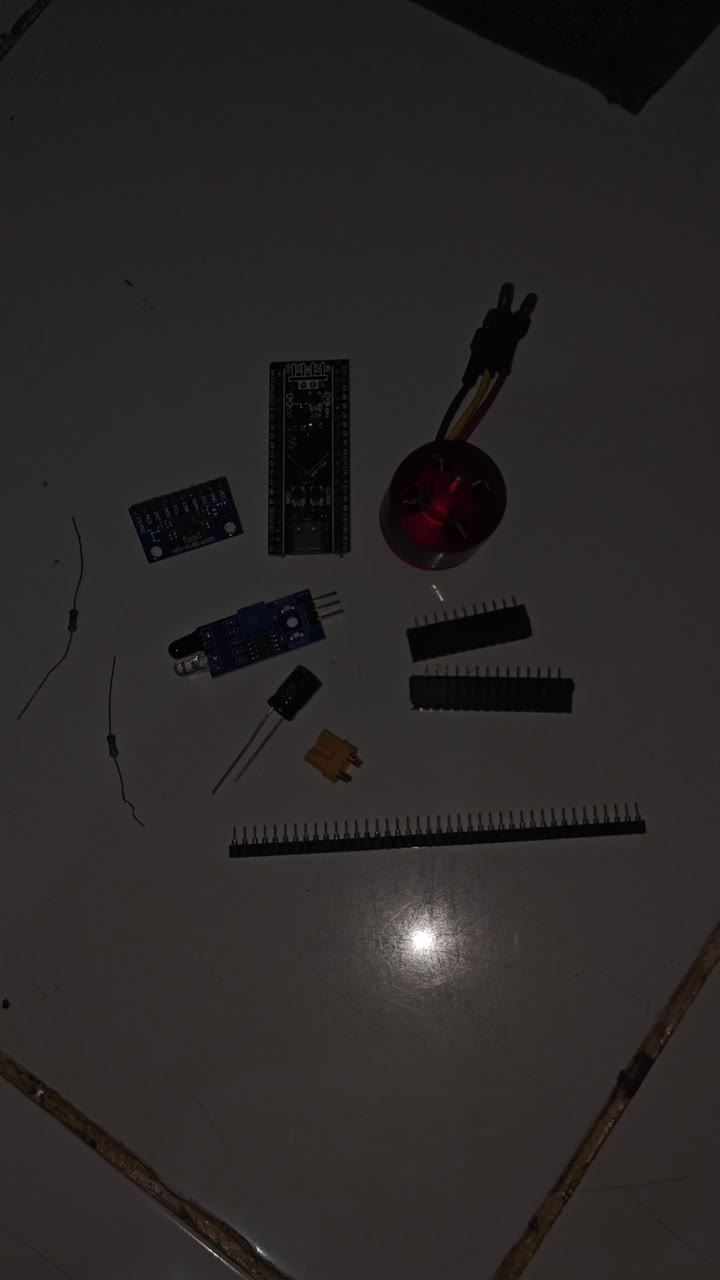bldc_motor: (389, 281, 540, 582)
elco_capacitor: (267, 662, 324, 723)
ir_sensor: (176, 585, 331, 681)
mpu6500: (131, 473, 248, 566)
pin_header: (223, 805, 661, 857), (406, 594, 537, 663), (409, 667, 582, 714)
resistor: (21, 506, 107, 730), (92, 651, 147, 845)
stm32f4: (279, 354, 351, 566)
xt30_female: (305, 725, 365, 786)
